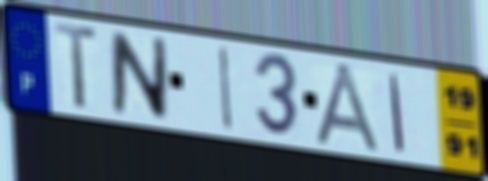3: (249, 50, 301, 142)
A: (311, 60, 387, 156)
I: (387, 71, 407, 156), (218, 43, 235, 133)
N: (108, 28, 170, 124)
T: (52, 19, 101, 113)
